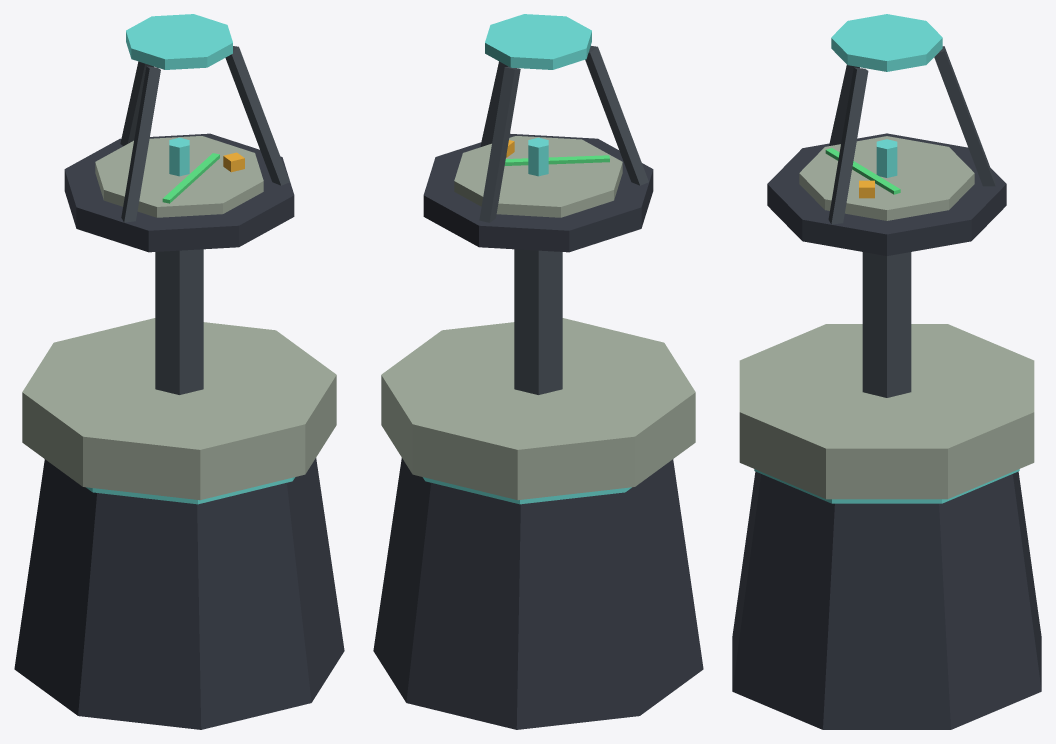
File: GV_ShipRadarPost_01.glb
The picture shows the model from 3 angles, left to right: view 1: azimuth 30°, elevation 25°; view 2: azimuth 150°, elevation 25°; view 3: azimuth 270°, elevation 25°; orthographic projection.
Parts seen in each view (by area): view 1: GV_ShipRadarPost_01; view 2: GV_ShipRadarPost_01; view 3: GV_ShipRadarPost_01.
Boxes of the visible parts, x1,y1,x2,y2 form: GV_ShipRadarPost_01: [14, 14, 344, 729]; GV_ShipRadarPost_01: [373, 14, 703, 729]; GV_ShipRadarPost_01: [732, 14, 1041, 729].
Size of the model in its own units: 0.7761 by 1.74 by 0.7761.
Materials: 1 (1 with a texture image).
